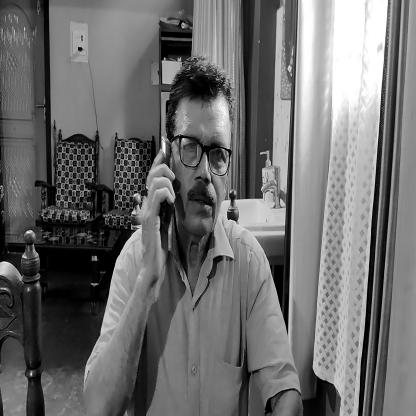Normal: (161, 57, 238, 250)
